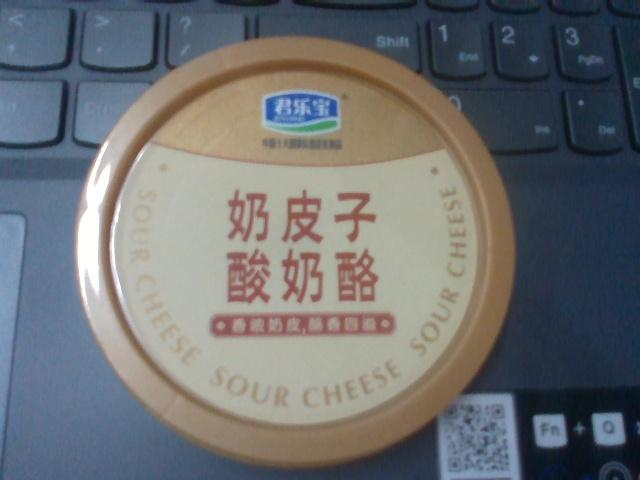lid: (74, 37, 537, 470)
